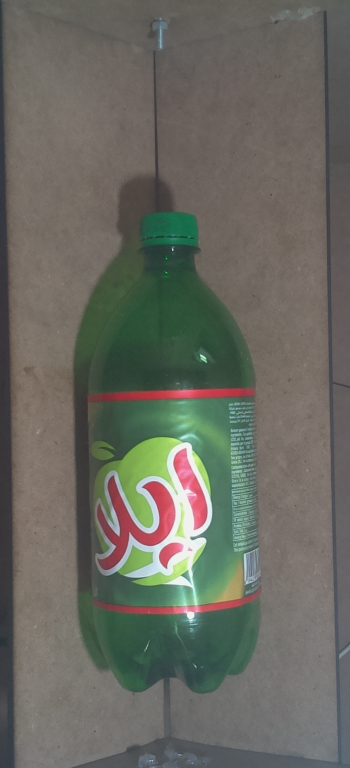Bouteille_1L: (72, 207, 267, 704)
